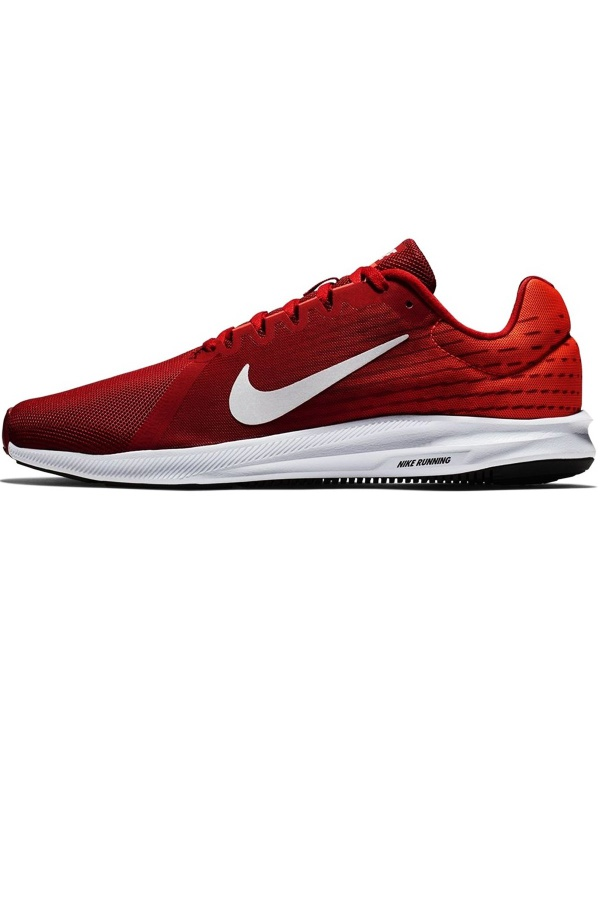nike: (221, 333, 411, 429)
